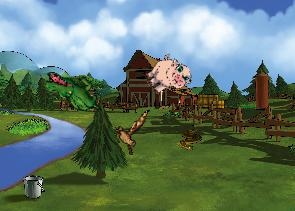crocodile: (42, 70, 105, 113)
eagle: (111, 107, 150, 156)
pig: (140, 49, 195, 103)
